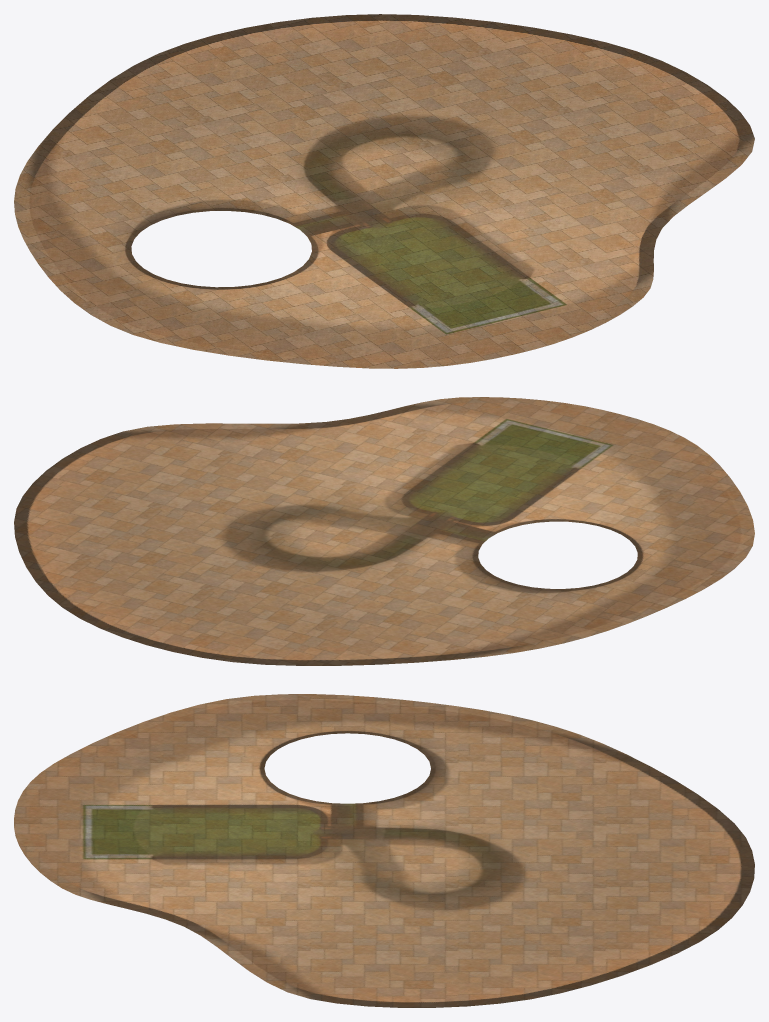
The model's file is solo-suelo-pista3.glb.
3 renders of one model, top to bottom at view 1: azimuth 30°, elevation 25°; view 2: azimuth 150°, elevation 25°; view 3: azimuth 270°, elevation 25°, orthographic. The views are drawn at different scales.
Visible parts, largest first — view 1: suelo-exterior-pista3; view 2: suelo-exterior-pista3; view 3: suelo-exterior-pista3.
Part boxes in pixels (left/top/right/bottom): suelo-exterior-pista3: left=14, top=14, right=754, bottom=368; suelo-exterior-pista3: left=14, top=397, right=754, bottom=665; suelo-exterior-pista3: left=14, top=694, right=754, bottom=1007.
Size of the model in its own units: 9.27 by 0 by 9.25.
Materials: 1 (1 with a texture image).
